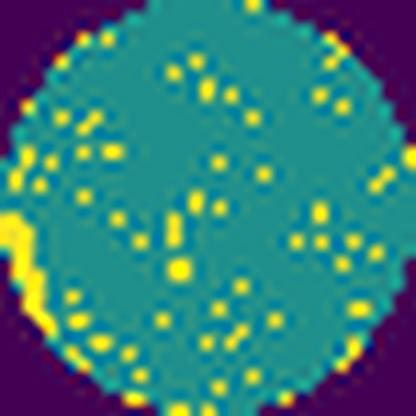Edge-Loc: (0, 208, 64, 345)
